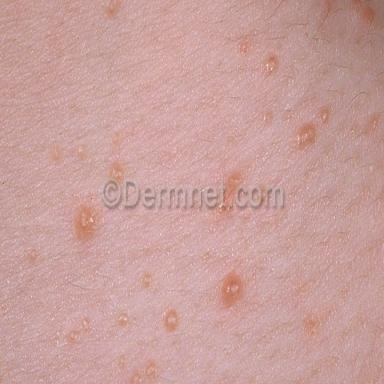Molluscum-Contagiosum: (221, 274, 242, 306), (297, 123, 317, 149), (164, 310, 179, 331), (265, 56, 277, 75), (319, 107, 330, 124), (146, 362, 156, 376), (132, 373, 142, 384), (68, 331, 77, 342), (119, 314, 127, 326), (143, 273, 151, 285), (119, 354, 125, 367), (30, 250, 37, 260), (83, 318, 89, 328)
